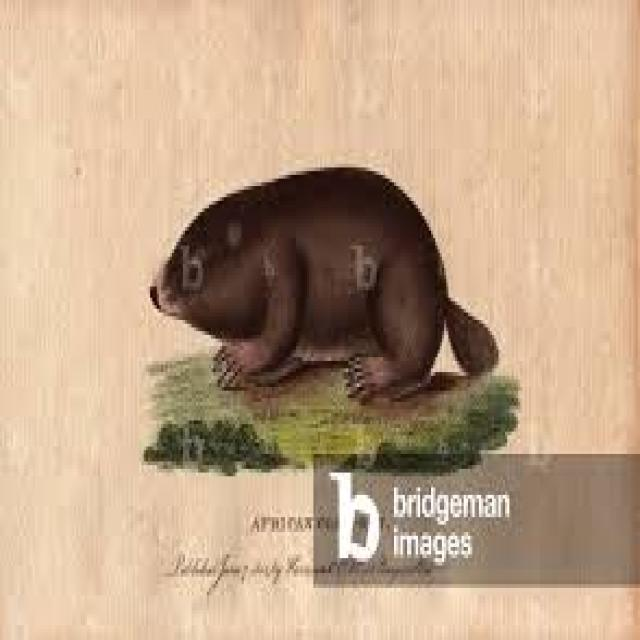rat: (148, 160, 499, 406)
